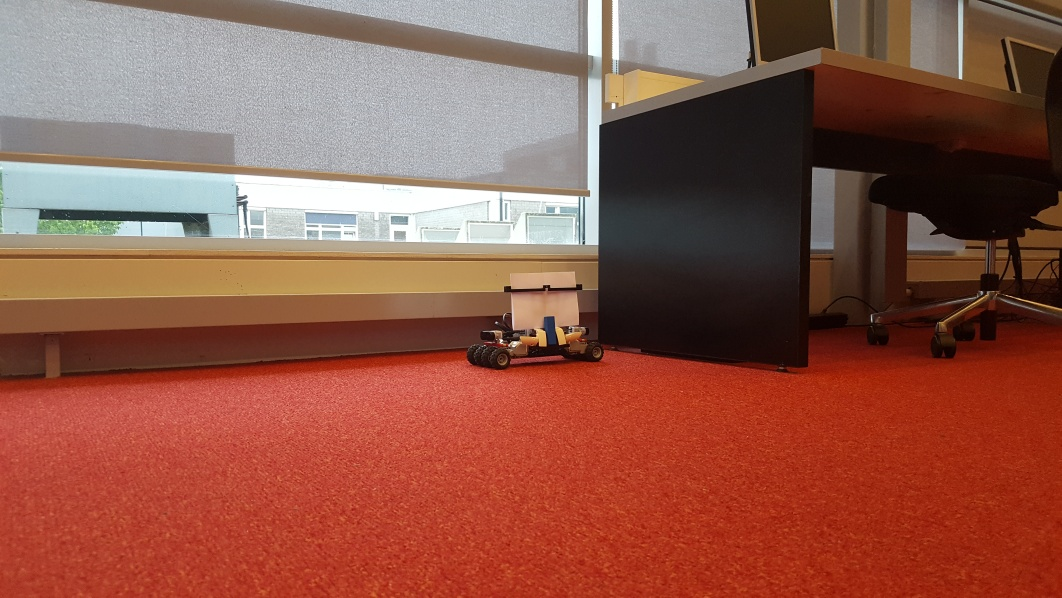car: (465, 272, 604, 369)
